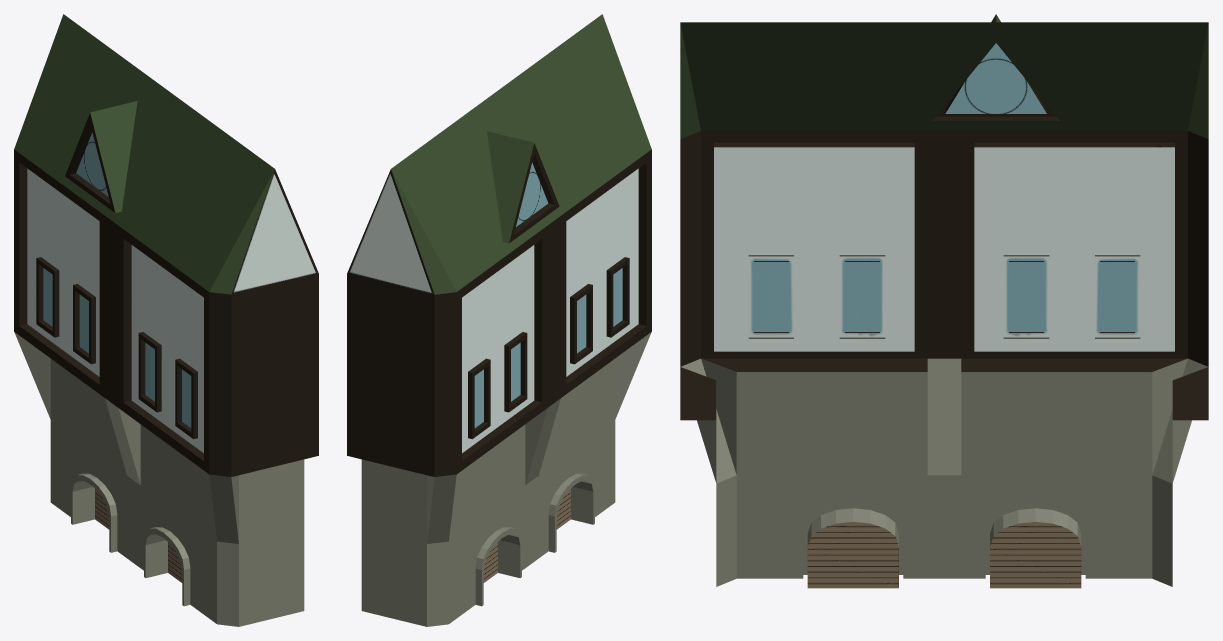
The model's file is House3.fbx.
The picture shows the model from 3 angles, left to right: view 1: azimuth 30°, elevation 25°; view 2: azimuth 150°, elevation 25°; view 3: azimuth 270°, elevation 25°; orthographic projection. The views are drawn at different scales.
Parts seen in each view (by area): view 1: House3; view 2: House3; view 3: House3.
Part boxes in pixels (x1,y1,x2,y2): House3: [14, 14, 318, 626]; House3: [347, 14, 651, 626]; House3: [680, 14, 1208, 588].
Size of the model in its own units: 3.23 by 11.59 by 14.
Materials: 1 (1 with a texture image).
